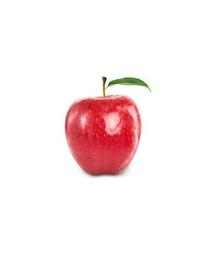apple: (64, 76, 142, 176)
